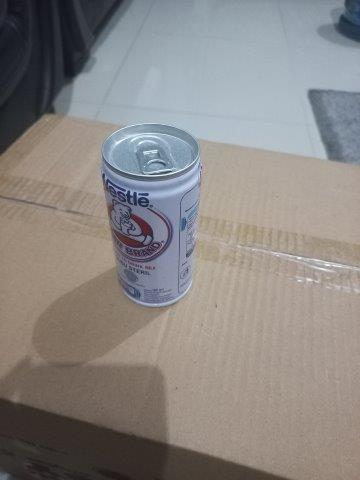kaleng: (100, 123, 203, 308)
kardus: (3, 111, 360, 480)
